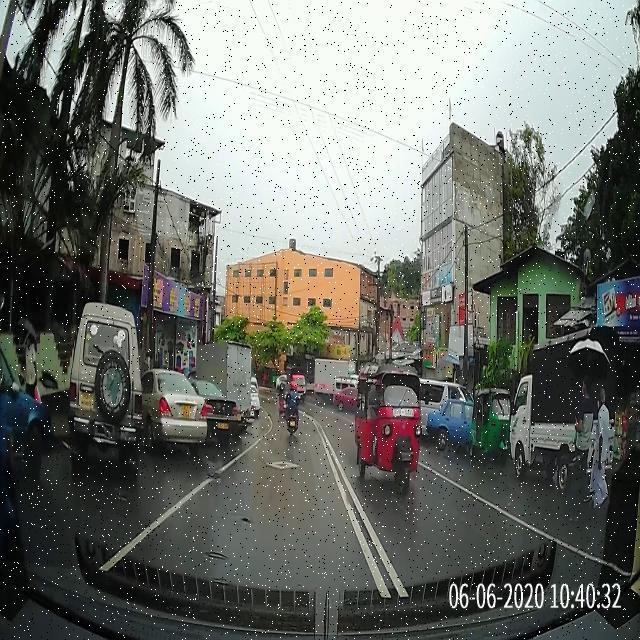diamond: (225, 451, 338, 483)
